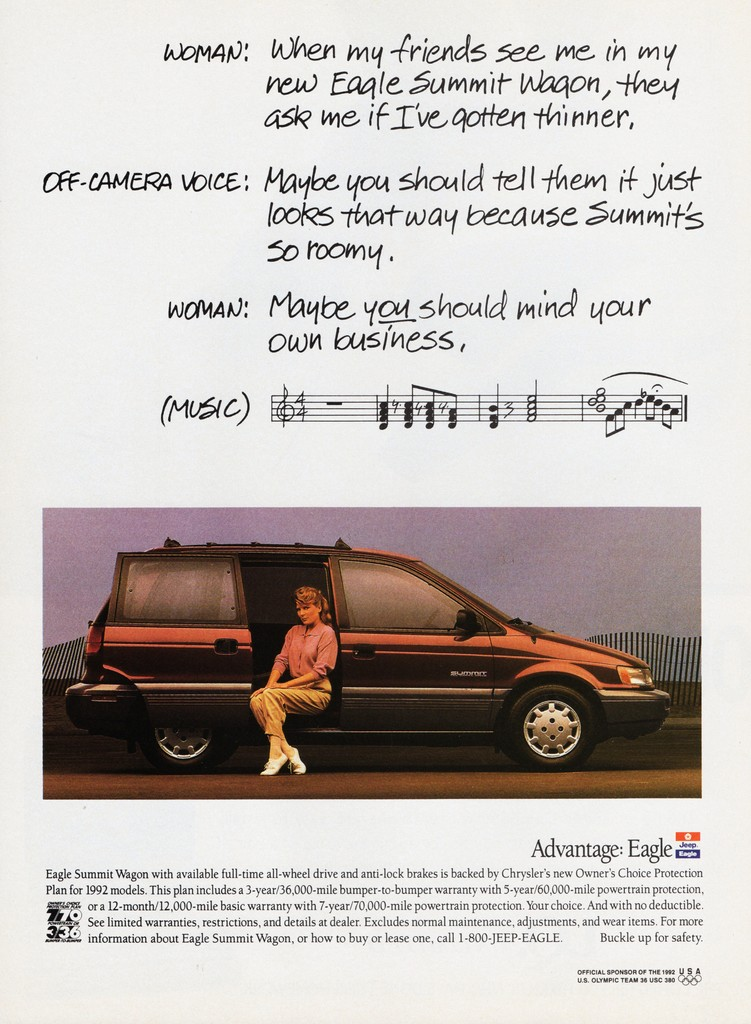Car: (64, 541, 672, 767)
